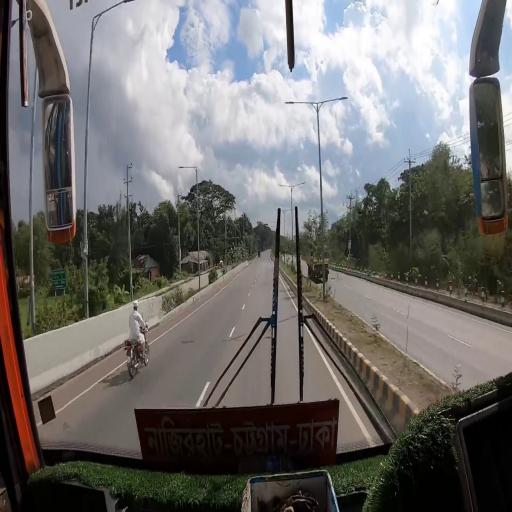motorbike: (125, 327, 151, 379)
truck: (307, 245, 330, 282)
